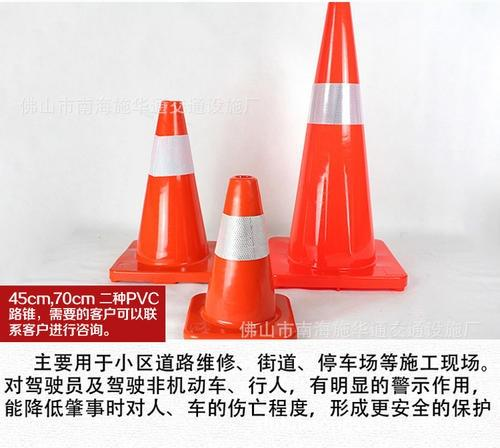cone_barrel: (283, 8, 388, 286), (129, 100, 213, 279), (195, 172, 281, 333)
